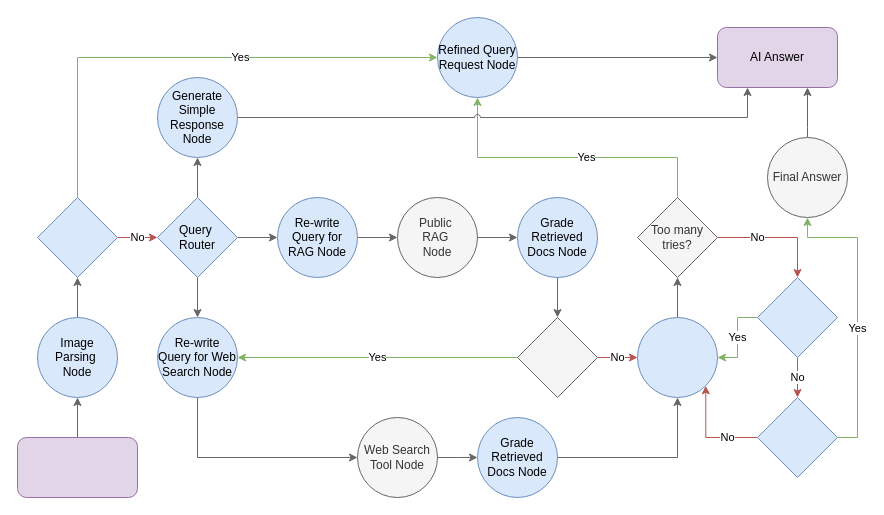
The diagram is 884 pixels wide and 515 high, and some of its shapes have lost their labels. The box of each missing label's shape, as (x1, y1, x2, y2) in pixels:
Add Web Search?: (516, 316, 598, 398)
Answers the query?: (756, 396, 838, 478)
Generate Response Node: (636, 316, 718, 398)
Hallucination?: (756, 276, 838, 358)
Moderation needed?: (36, 196, 118, 278)
User Query: (16, 436, 138, 498)
